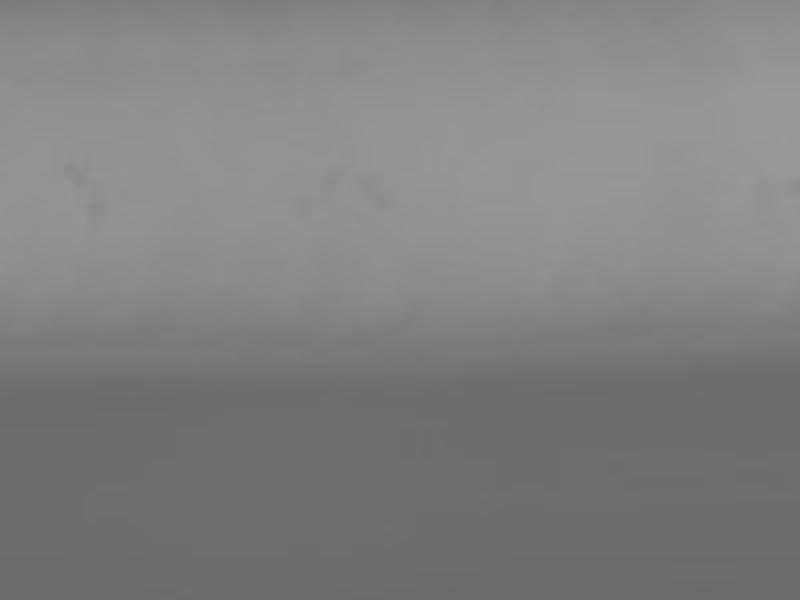defect: (63, 159, 85, 185), (82, 199, 104, 216)
